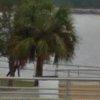Tree: (11, 0, 76, 67)
